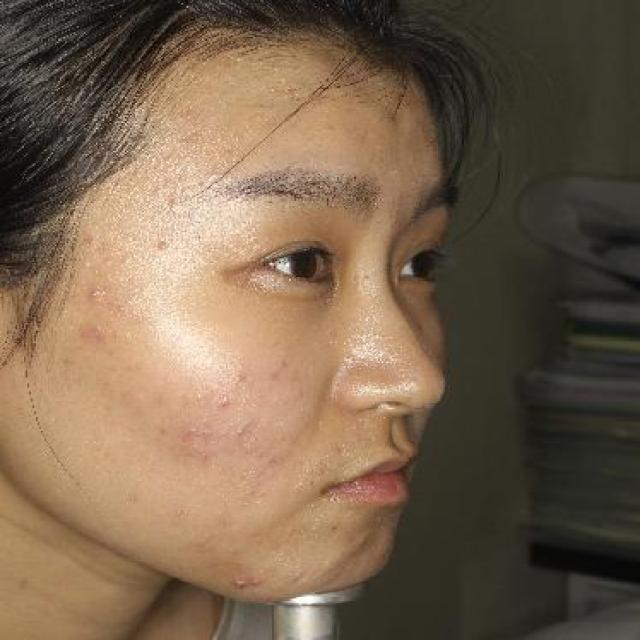dark spot: (228, 368, 256, 388), (266, 366, 288, 382)
papules: (210, 390, 238, 416)
pustules: (228, 574, 252, 595), (151, 235, 176, 254), (81, 285, 106, 303), (82, 232, 106, 248), (246, 571, 264, 589)
whiteheads: (188, 388, 209, 403), (125, 489, 142, 506), (122, 252, 140, 268), (101, 254, 120, 266), (80, 257, 96, 271)
